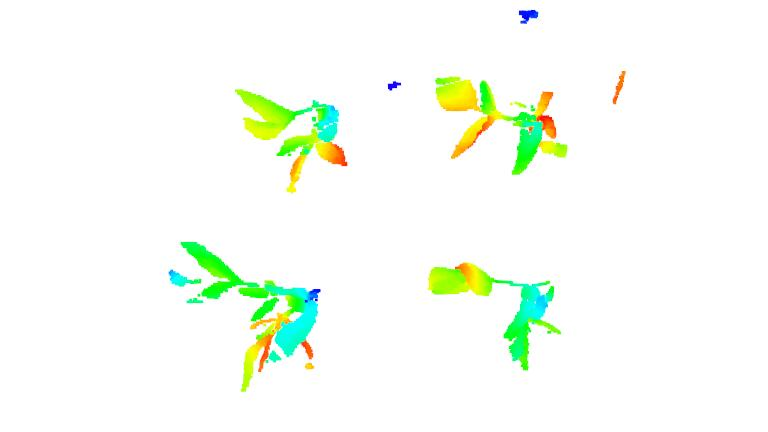mungbean: (166, 238, 323, 392), (422, 256, 566, 375), (430, 72, 575, 180), (230, 82, 352, 196)
